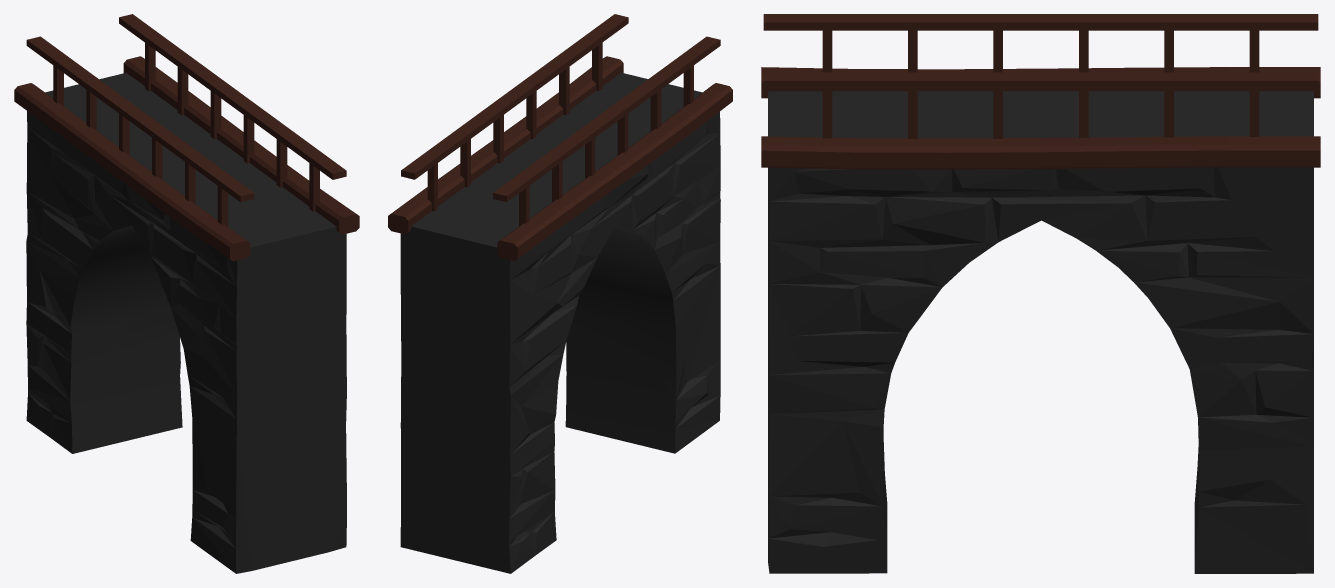
The model's file is civilian_bridge_4_b.FBX.
The picture shows the model from 3 angles, left to right: view 1: azimuth 30°, elevation 25°; view 2: azimuth 150°, elevation 25°; view 3: azimuth 270°, elevation 25°; orthographic projection. The views are drawn at different scales.
Parts seen in each view (by area): view 1: civilian_bridge_4_b; view 2: civilian_bridge_4_b; view 3: civilian_bridge_4_b.
Part boxes in pixels (<box>): civilian_bridge_4_b: <box>14,14,359,573</box>; civilian_bridge_4_b: <box>388,14,732,573</box>; civilian_bridge_4_b: <box>761,14,1320,573</box>.
Size of the model in its own units: 235 by 656 by 676.
